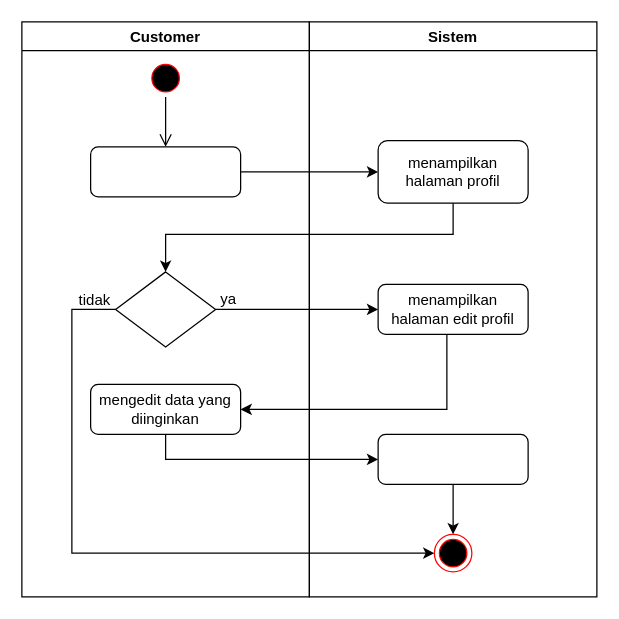
This 619x619 diagram has some shape labels left out. Here are the shapes that lost their labels. From the top down, the centre of each, then its label:
(165,171): membuka sistem
(165,309): edit profil?
(452,458): menyimpan perubahan data
